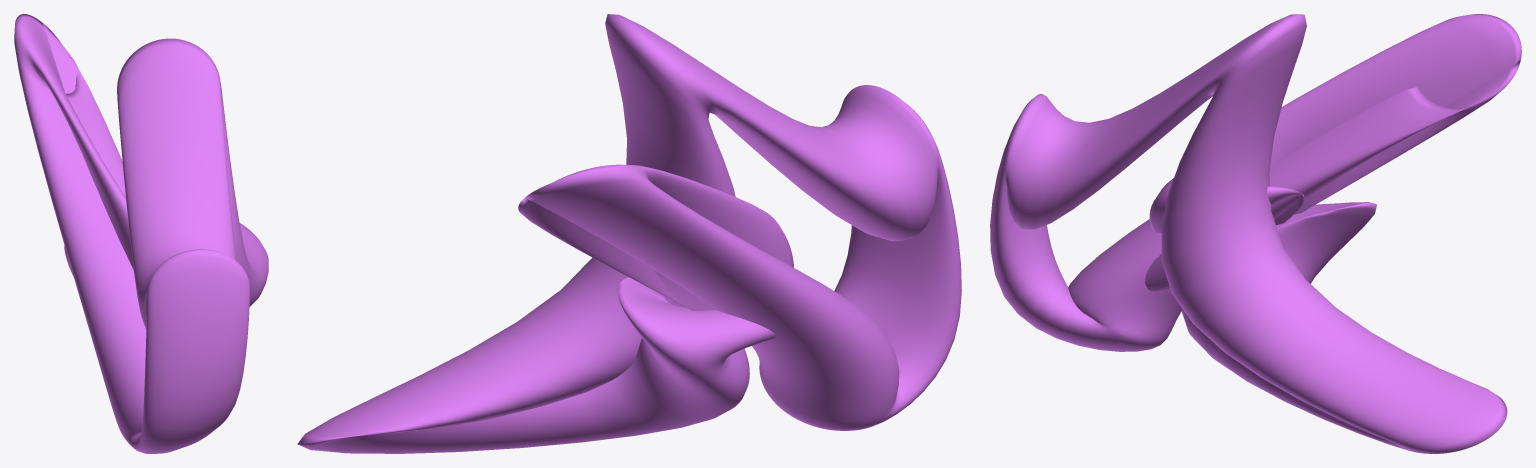
3 renders of one model, left to right at view 1: azimuth 30°, elevation 25°; view 2: azimuth 150°, elevation 25°; view 3: azimuth 270°, elevation 25°, orthographic. The views are drawn at different scales.
Parts seen in each view (by area): view 1: GR_E; view 2: GR_E; view 3: GR_E.
Boxes of the visible parts, left/top/right/bottom form: GR_E: left=14, top=14, right=268, bottom=453; GR_E: left=297, top=14, right=961, bottom=453; GR_E: left=990, top=14, right=1521, bottom=453.
Size of the model in its own units: 8.52 by 8.99 by 11.46.
